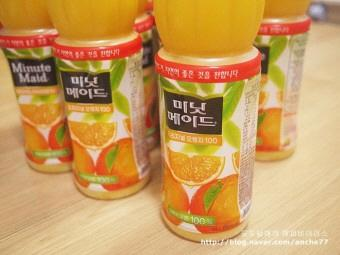minutemaid_org_orange: (151, 0, 264, 241), (66, 0, 157, 204), (9, 0, 69, 184), (255, 0, 308, 166)
